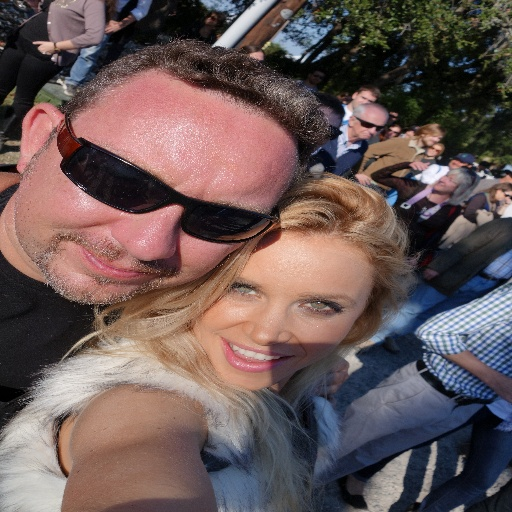hand: (274, 358, 353, 399), (486, 375, 511, 405), (31, 39, 56, 57), (101, 17, 121, 34), (353, 172, 376, 185), (412, 160, 430, 172), (421, 267, 436, 280)
